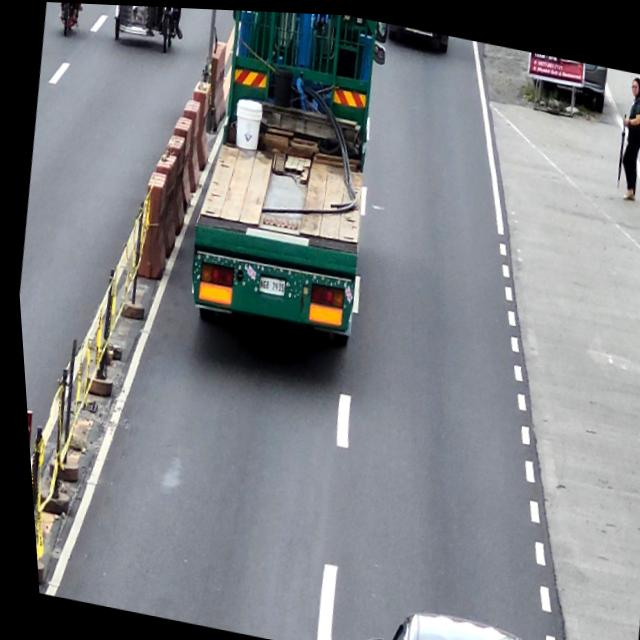Car: (348, 594, 551, 640)
License-Plate: (252, 273, 283, 294)
Truck: (164, 6, 405, 360)
